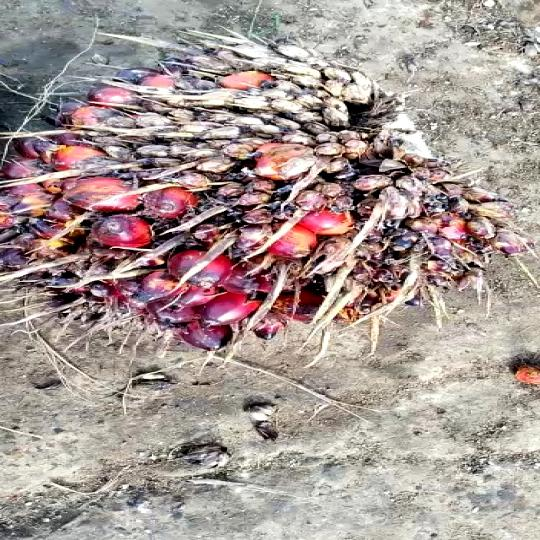masak: (0, 37, 523, 354)
